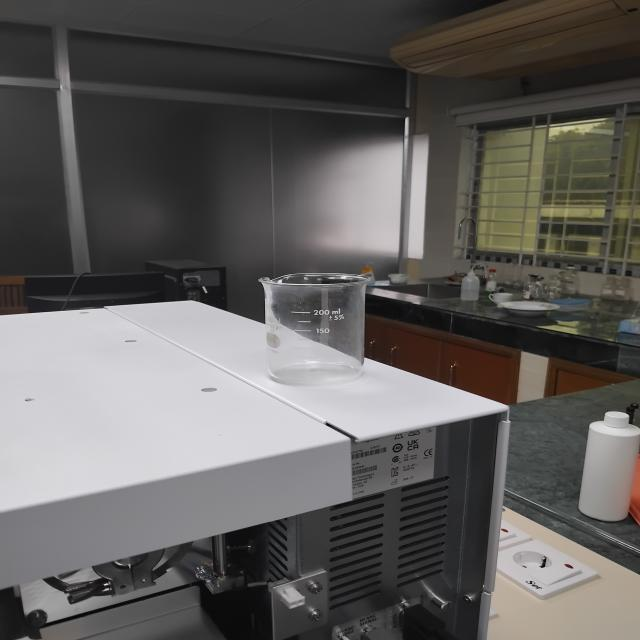Beaker: (242, 247, 407, 404)
